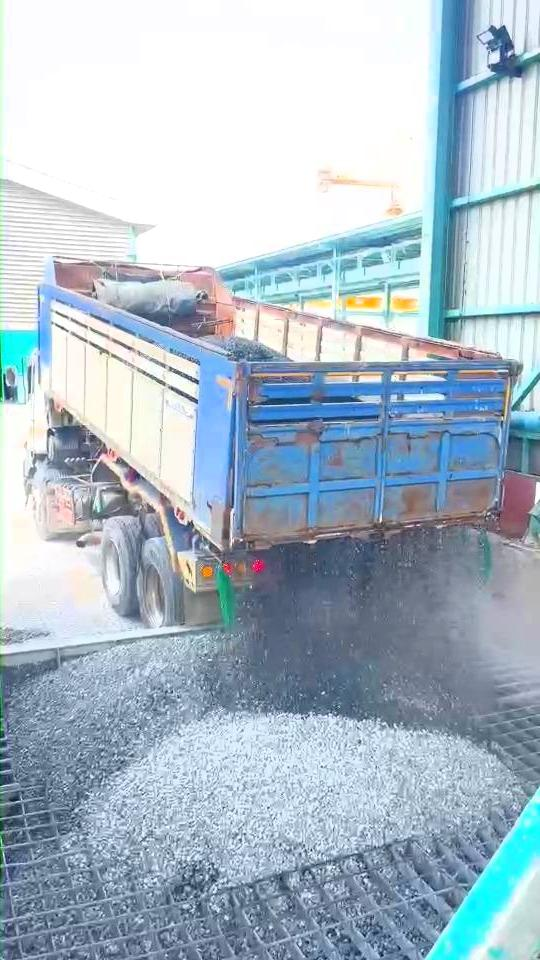gravel: (81, 711, 521, 882), (230, 530, 491, 728), (6, 633, 226, 809), (205, 336, 288, 360), (1, 627, 48, 645)
